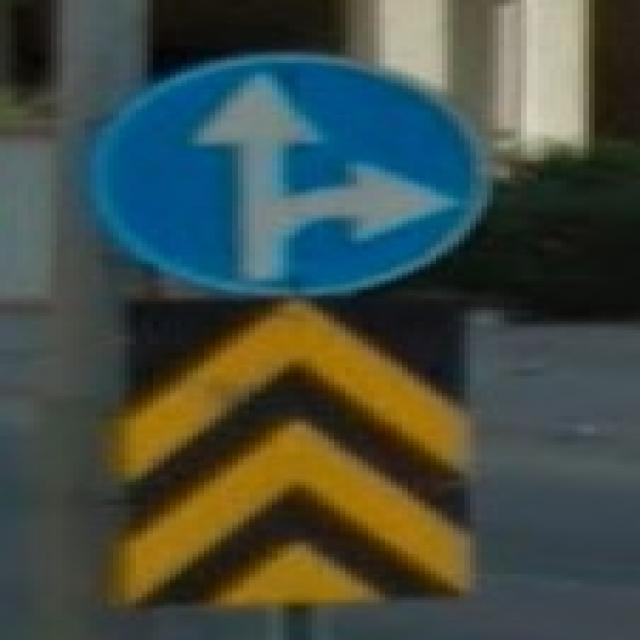Straight or Right: (100, 54, 474, 301)
